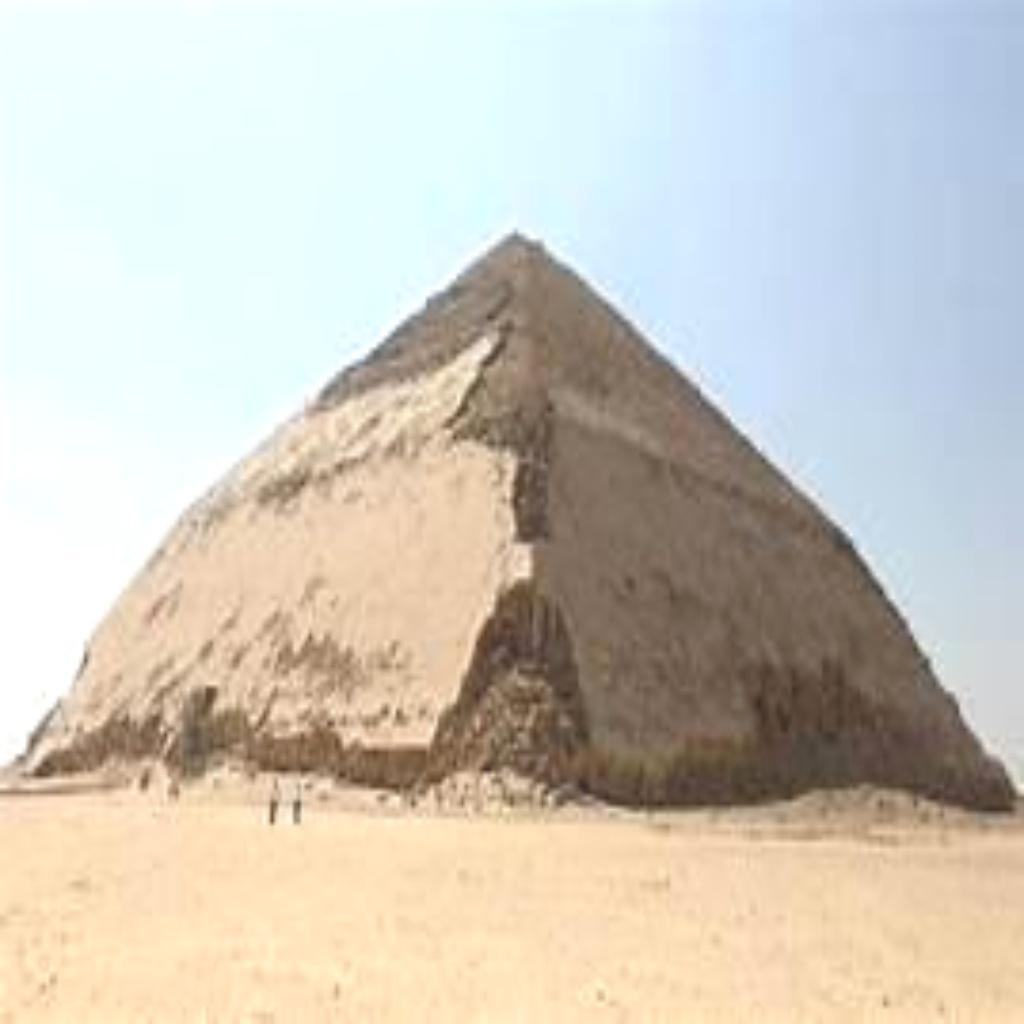Bent Pyramid of King Sneferu: (12, 217, 1012, 818)
